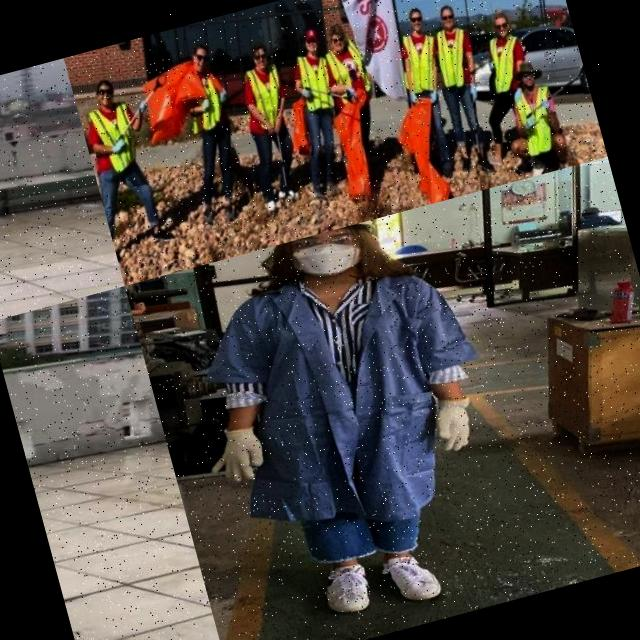helmet: (287, 213, 398, 254)
vest: (494, 67, 570, 174), (390, 20, 463, 99), (314, 28, 382, 112), (280, 44, 348, 124), (86, 96, 146, 174), (477, 23, 532, 98), (422, 26, 477, 93), (239, 59, 289, 124), (188, 87, 230, 139)
